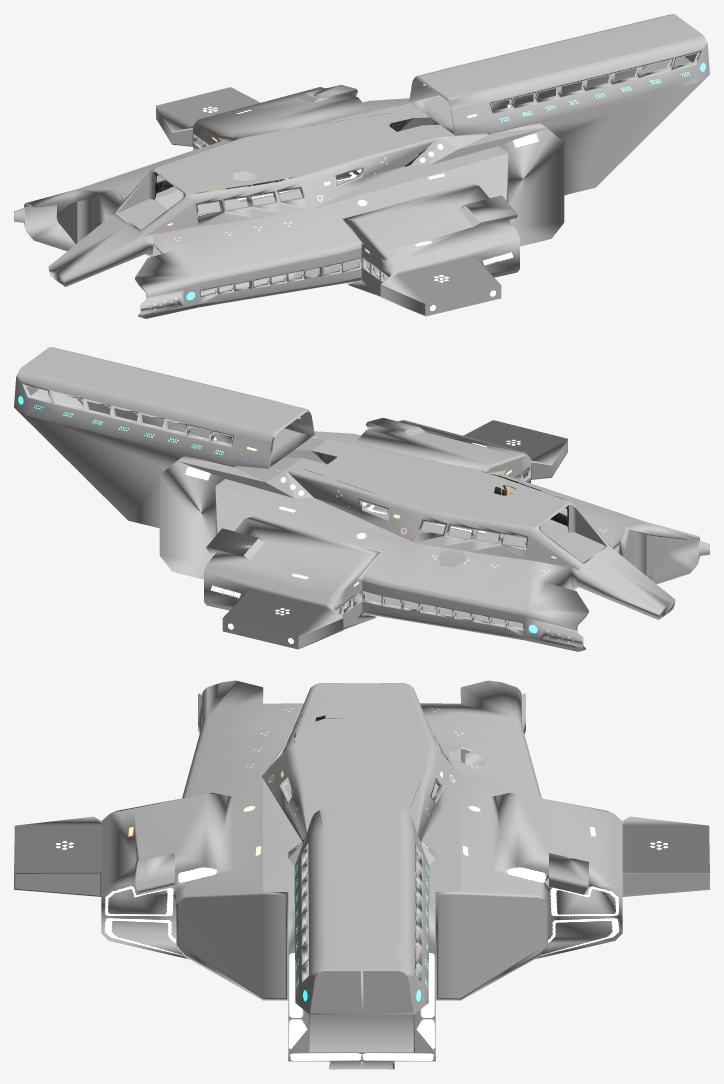
The model's file is SM_BigShip_Body.fbx.
The picture shows the model from 3 angles, top to bottom: view 1: azimuth 30°, elevation 25°; view 2: azimuth 150°, elevation 25°; view 3: azimuth 270°, elevation 25°; orthographic projection. The views are drawn at different scales.
Visible parts, largest first — view 1: SM_BigShip_Body_LOD0; view 2: SM_BigShip_Body_LOD0; view 3: SM_BigShip_Body_LOD0.
Part boxes in pixels (x1,y1,x2,y2): SM_BigShip_Body_LOD0: (14, 14, 709, 318); SM_BigShip_Body_LOD0: (14, 347, 709, 651); SM_BigShip_Body_LOD0: (14, 680, 709, 1069).
Size of the model in its own units: 20365 by 5128 by 15065.
